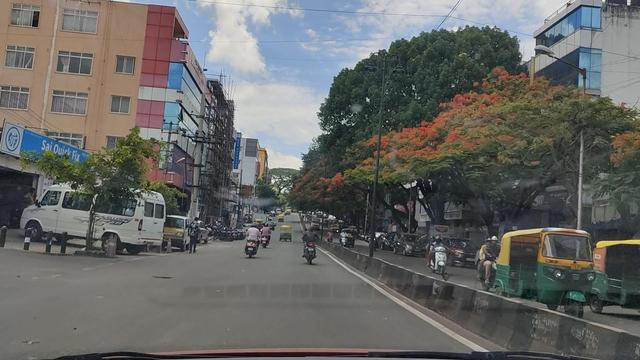LMV: (231, 219, 268, 256), (306, 233, 321, 271)
